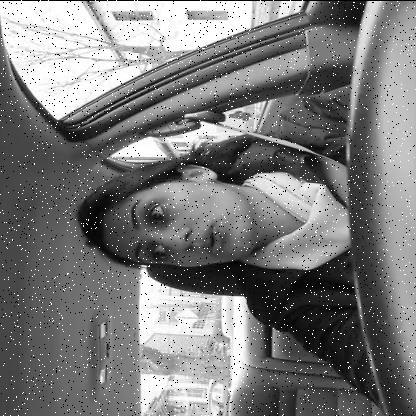seatbelt: (73, 107, 348, 276)
